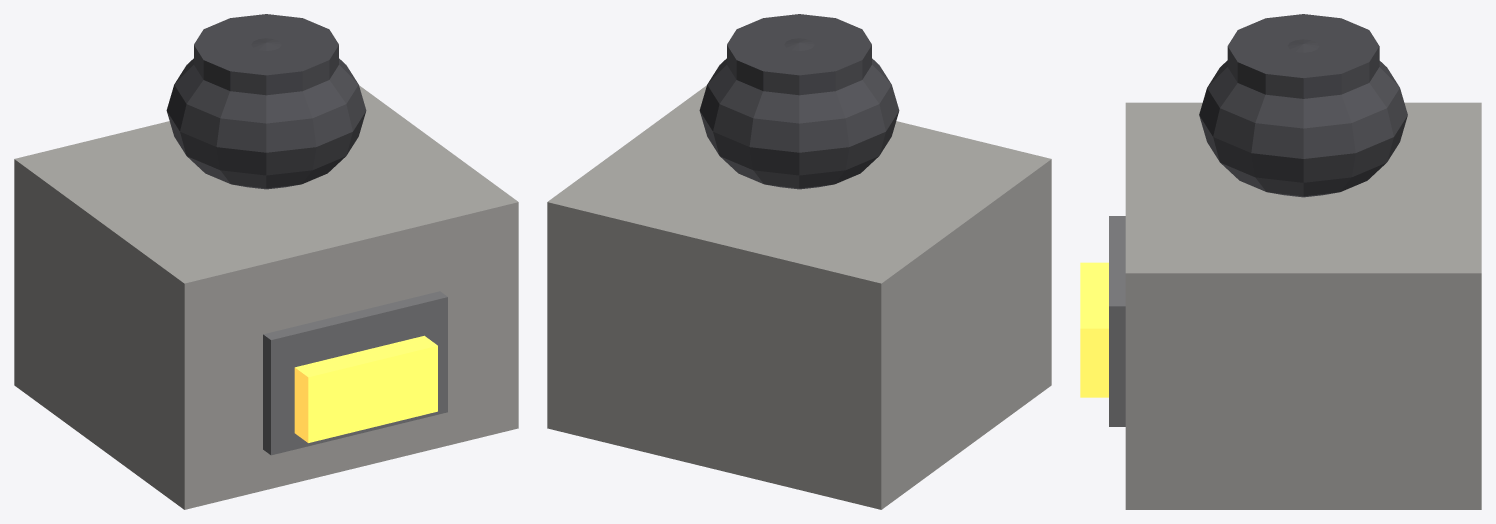
Rendered from station_stove.glb.
The picture shows the model from 3 angles, left to right: view 1: azimuth 30°, elevation 25°; view 2: azimuth 150°, elevation 25°; view 3: azimuth 270°, elevation 25°; orthographic projection. The views are drawn at different scales.
Parts seen in each view (by area): view 1: station_stove; view 2: station_stove; view 3: station_stove.
Part boxes in pixels (left/top/right/bottom): station_stove: left=14, top=14, right=518, bottom=509; station_stove: left=547, top=14, right=1051, bottom=509; station_stove: left=1080, top=14, right=1481, bottom=509.
Size of the model in its own units: 0.85 by 0.885 by 0.845.
